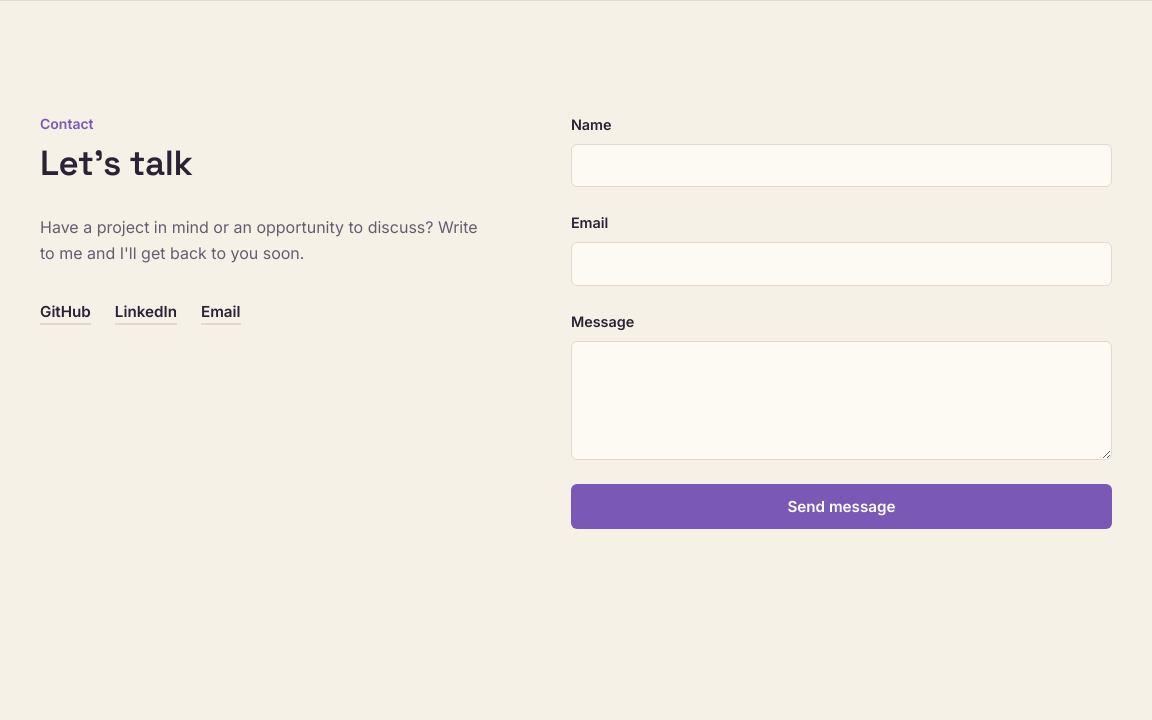
Test: Contact form › renders labels and messages in English
Click the button "Send message": (841, 507) [571,484,1112,529]
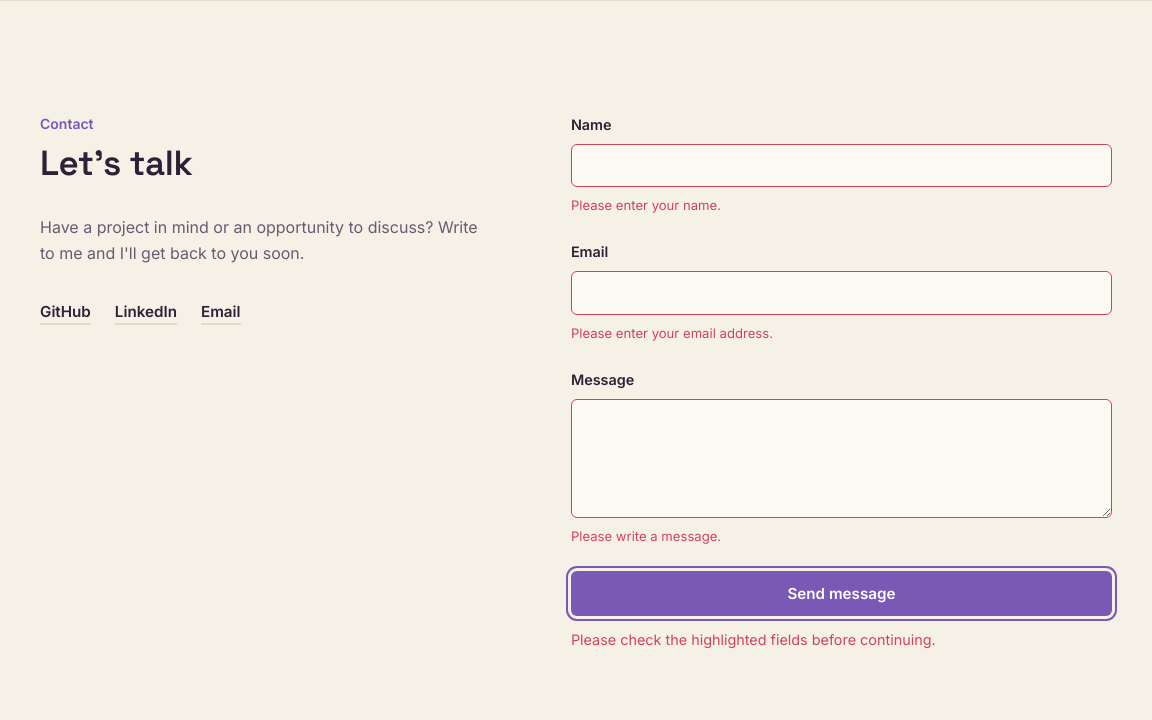
Expected: the text "Please enter your name." is shown, [571,197,721,213]
